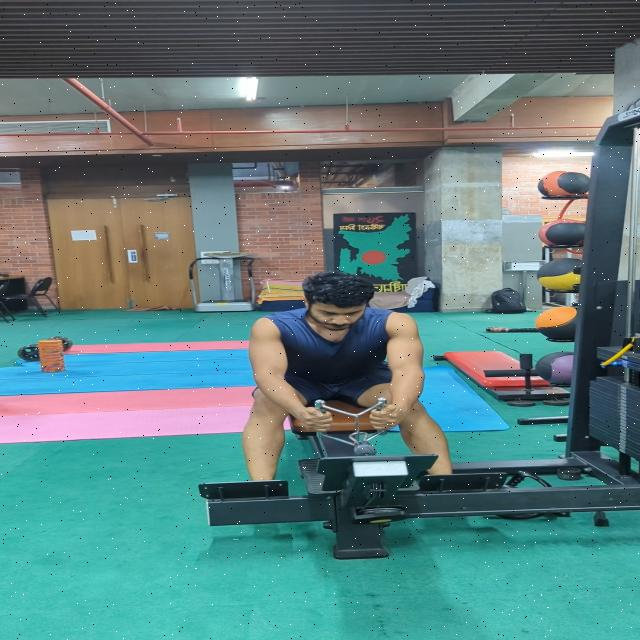Normal_RowingMachineExercise: (238, 270, 453, 482)
